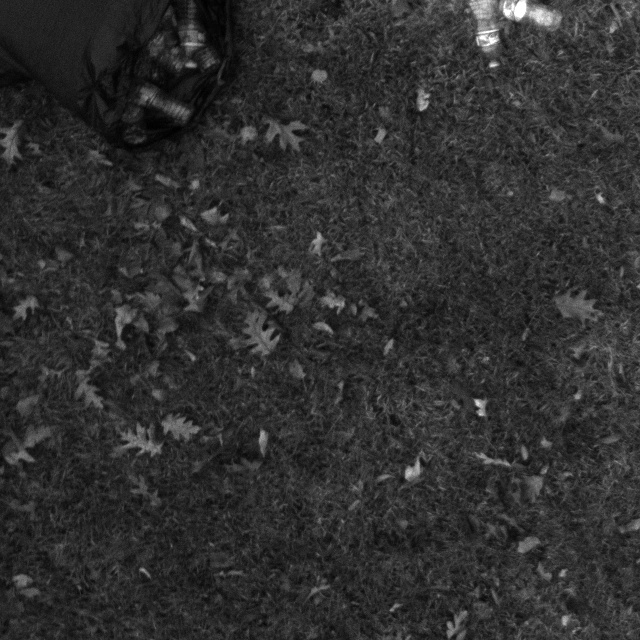bottle: (463, 0, 505, 62)
